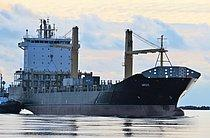Ship: (7, 15, 205, 127)
